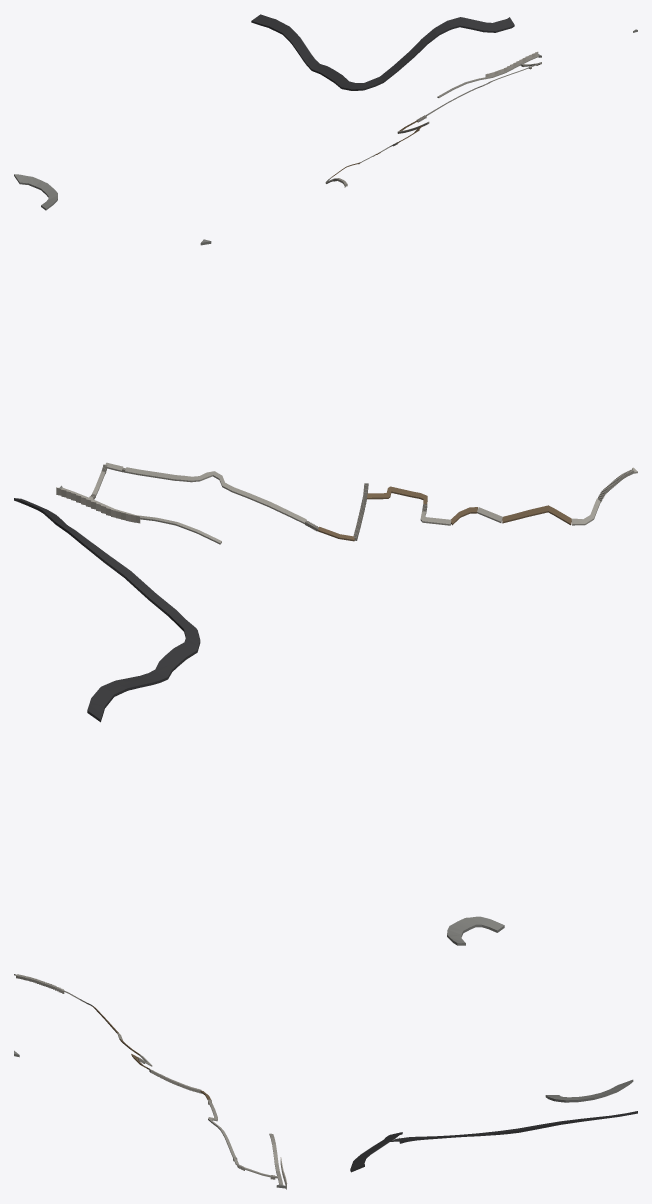
The picture shows the model from 3 angles, top to bottom: view 1: azimuth 30°, elevation 25°; view 2: azimuth 150°, elevation 25°; view 3: azimuth 270°, elevation 25°; orthographic projection. The views are drawn at different scales.
Bounding box in the file's own units: 293 × 159 × 292.
